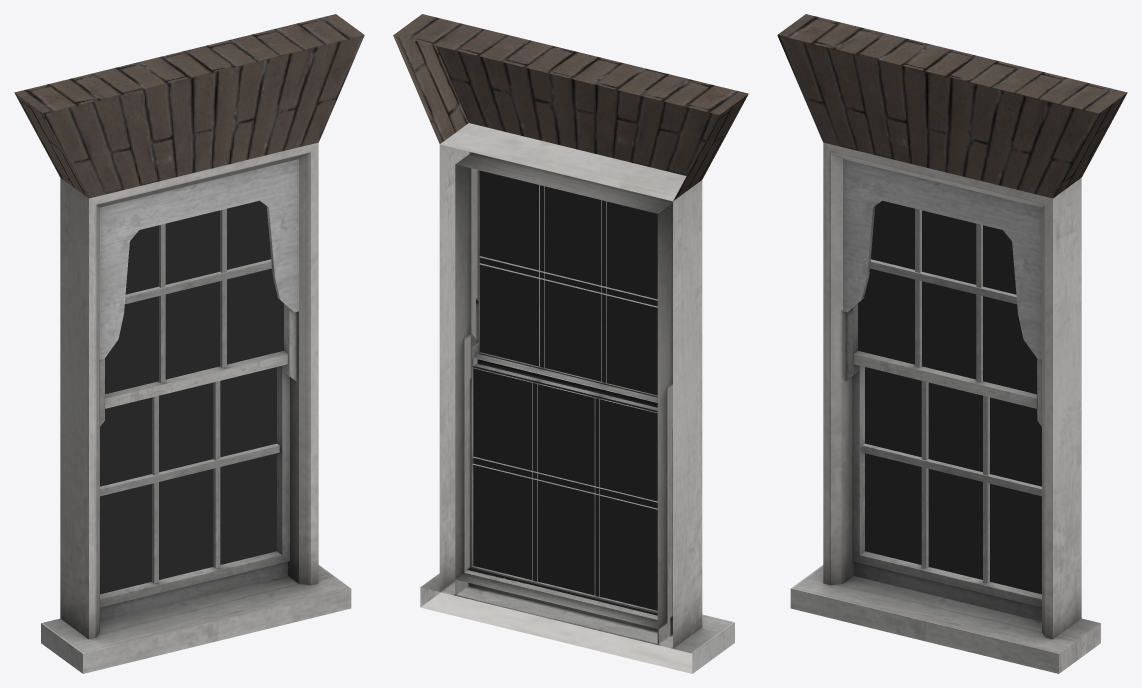
Rendered from Window_01_closed.FBX.
The picture shows the model from 3 angles, left to right: view 1: azimuth 30°, elevation 25°; view 2: azimuth 150°, elevation 25°; view 3: azimuth 330°, elevation 25°; orthographic projection.
Visible parts, largest first — view 1: WindowFrame_01_closed; view 2: WindowFrame_01_closed; view 3: WindowFrame_01_closed.
Boxes of the visible parts, left/top/right/bottom form: WindowFrame_01_closed: left=14, top=14, right=364, bottom=673; WindowFrame_01_closed: left=393, top=14, right=748, bottom=673; WindowFrame_01_closed: left=777, top=14, right=1127, bottom=673.
Size of the model in its own units: 84 by 139 by 19.
